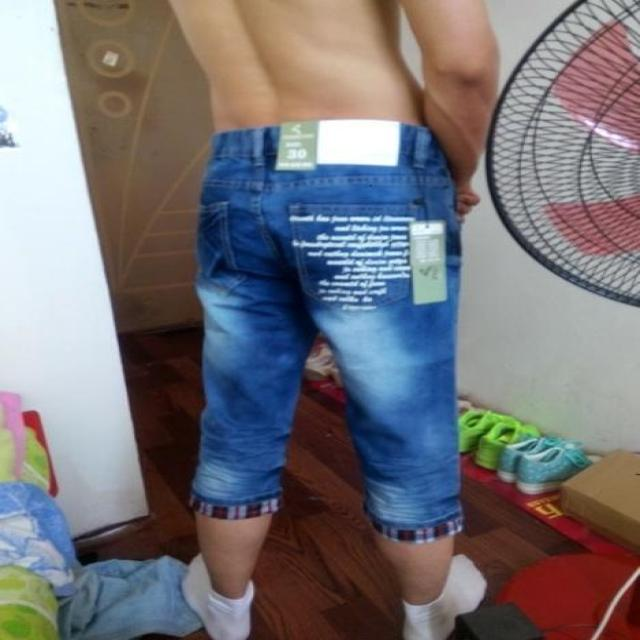trousers: (187, 121, 464, 531)
